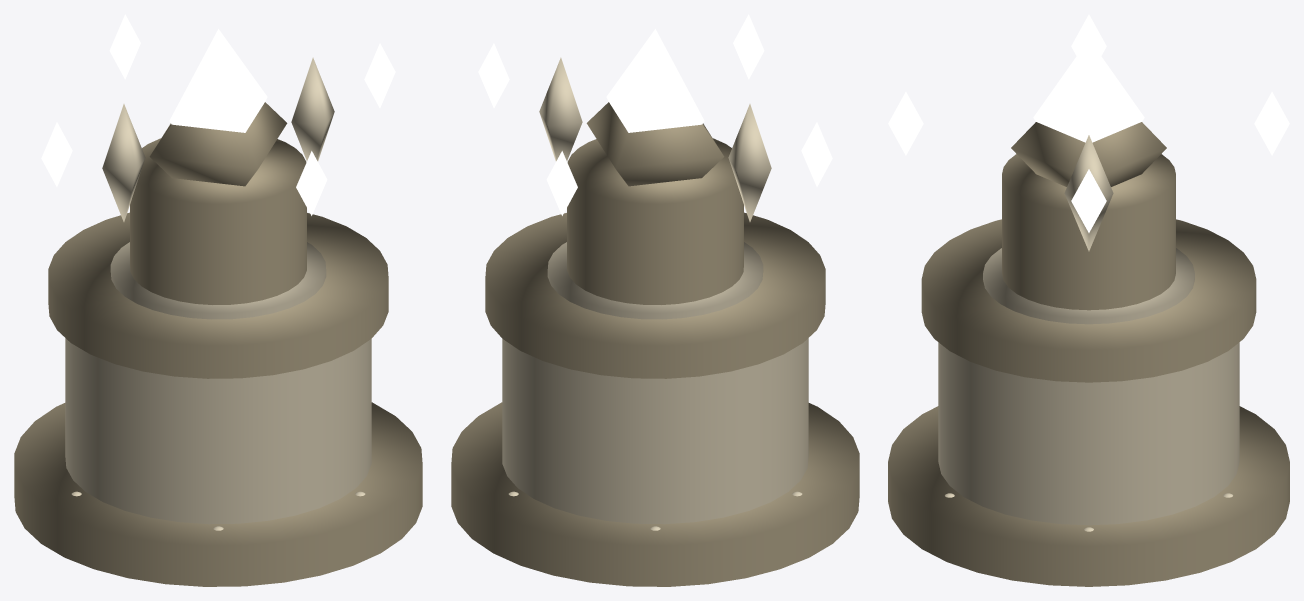
Rendered from lightning_l5.glb.
3 renders of one model, left to right at view 1: azimuth 30°, elevation 25°; view 2: azimuth 150°, elevation 25°; view 3: azimuth 270°, elevation 25°, orthographic.
Parts seen in each view (by area): view 1: base, footing, baseCollar, shaft, support, spinCrystal, lowerTrim, shardL, shardR, OrbitShard2, OrbitShard0, OrbitShard1 (+1 smaller); view 2: base, footing, baseCollar, shaft, support, spinCrystal, lowerTrim, shardL, shardR, OrbitShard2, OrbitShard0, OrbitShard3 (+1 smaller); view 3: base, footing, baseCollar, shaft, spinCrystal, support, lowerTrim, shardR, OrbitShard1, OrbitShard3, OrbitShard0, OrbitShard2.
Boxes of the visible parts, bbox=[...] form: base: bbox=[65, 338, 371, 524]; footing: bbox=[14, 402, 422, 586]; baseCollar: bbox=[48, 212, 388, 378]; shaft: bbox=[130, 138, 306, 304]; support: bbox=[149, 102, 287, 186]; spinCrystal: bbox=[169, 29, 267, 132]; lowerTrim: bbox=[110, 242, 326, 319]; shardL: bbox=[102, 104, 145, 221]; shardR: bbox=[291, 57, 334, 161]; OrbitShard2: bbox=[41, 122, 72, 186]; OrbitShard0: bbox=[364, 43, 395, 107]; OrbitShard1: bbox=[296, 151, 327, 215]; base: bbox=[502, 338, 808, 524]; footing: bbox=[451, 402, 859, 586]; baseCollar: bbox=[485, 212, 825, 378]; shaft: bbox=[567, 138, 743, 304]; support: bbox=[586, 102, 724, 186]; spinCrystal: bbox=[606, 29, 704, 132]; lowerTrim: bbox=[547, 242, 763, 319]; shardL: bbox=[728, 104, 771, 221]; shardR: bbox=[539, 57, 582, 161]; OrbitShard2: bbox=[801, 122, 832, 186]; OrbitShard0: bbox=[478, 43, 509, 107]; OrbitShard3: bbox=[546, 151, 577, 215]; base: bbox=[938, 342, 1239, 525]; footing: bbox=[888, 406, 1289, 586]; baseCollar: bbox=[921, 219, 1256, 382]; shaft: bbox=[1002, 154, 1175, 310]; spinCrystal: bbox=[1033, 39, 1144, 142]; support: bbox=[1011, 122, 1166, 186]; lowerTrim: bbox=[983, 248, 1194, 324]; shardR: bbox=[1064, 135, 1113, 251]; OrbitShard1: bbox=[888, 92, 923, 155]; OrbitShard3: bbox=[1254, 92, 1289, 155]; OrbitShard0: bbox=[1071, 169, 1106, 232]; OrbitShard2: bbox=[1071, 14, 1106, 55].
Size of the model in its own units: 1.8 by 2.29 by 1.8.
